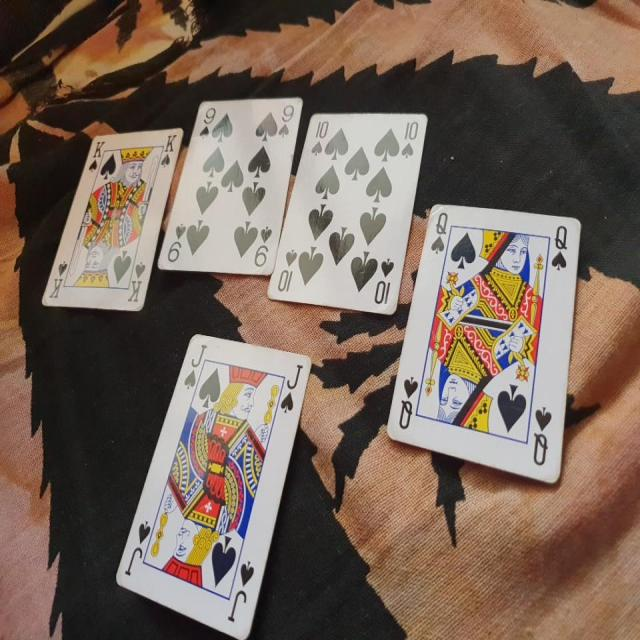10 Spades: (264, 113, 433, 312)
9 Spades: (154, 90, 307, 282)
J Spades: (110, 326, 314, 630)
K Spades: (42, 126, 188, 316)
Q Spades: (380, 201, 585, 500)
